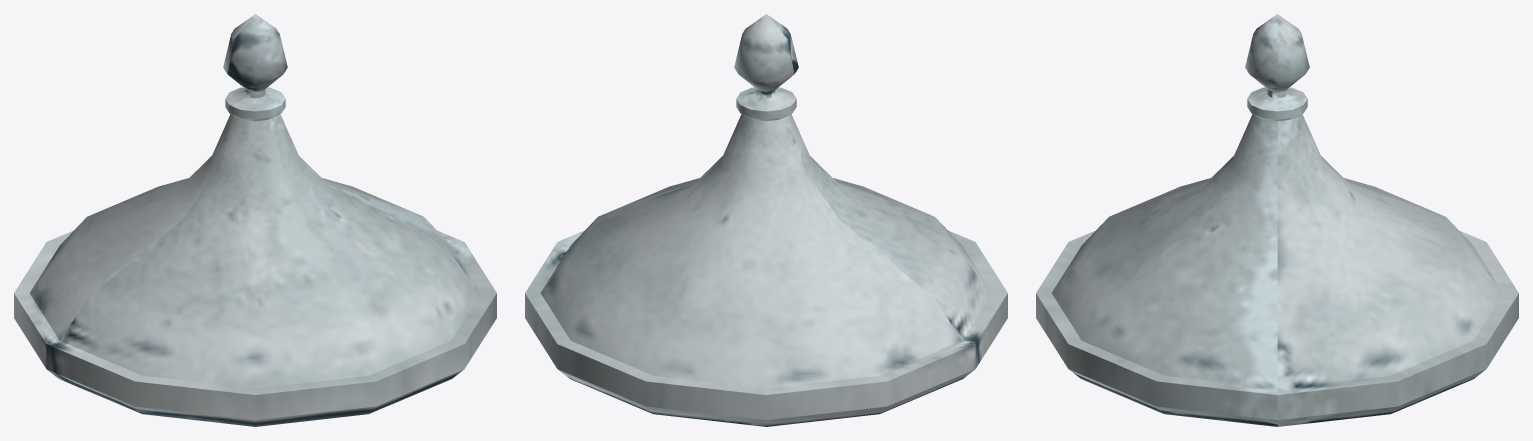
Rendered from copaGenerica5_tapa.FBX.
The picture shows the model from 3 angles, left to right: view 1: azimuth 30°, elevation 25°; view 2: azimuth 150°, elevation 25°; view 3: azimuth 270°, elevation 25°; orthographic projection.
Parts seen in each view (by area): view 1: copaGenerica5_tapa; view 2: copaGenerica5_tapa; view 3: copaGenerica5_tapa.
Boxes of the visible parts, x1,y1,x2,y2 form: copaGenerica5_tapa: [14, 14, 496, 426]; copaGenerica5_tapa: [525, 14, 1007, 426]; copaGenerica5_tapa: [1036, 14, 1518, 426].
Size of the model in its own units: 66.08 by 47.89 by 66.08.
